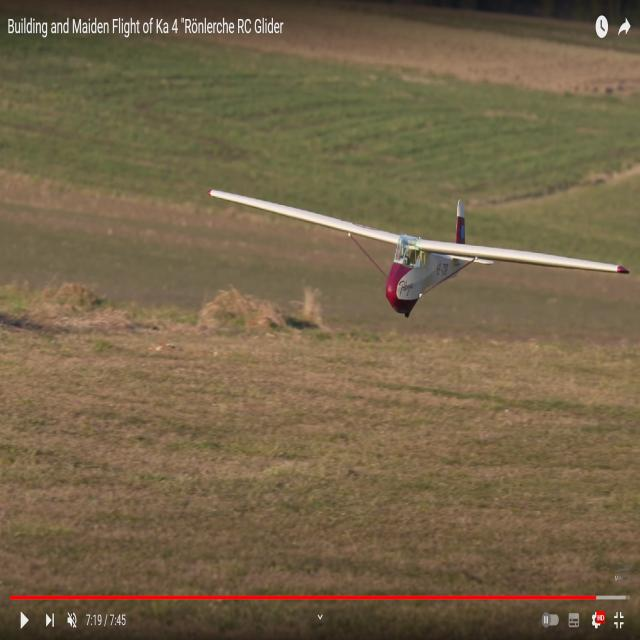iha: (206, 177, 632, 323)
